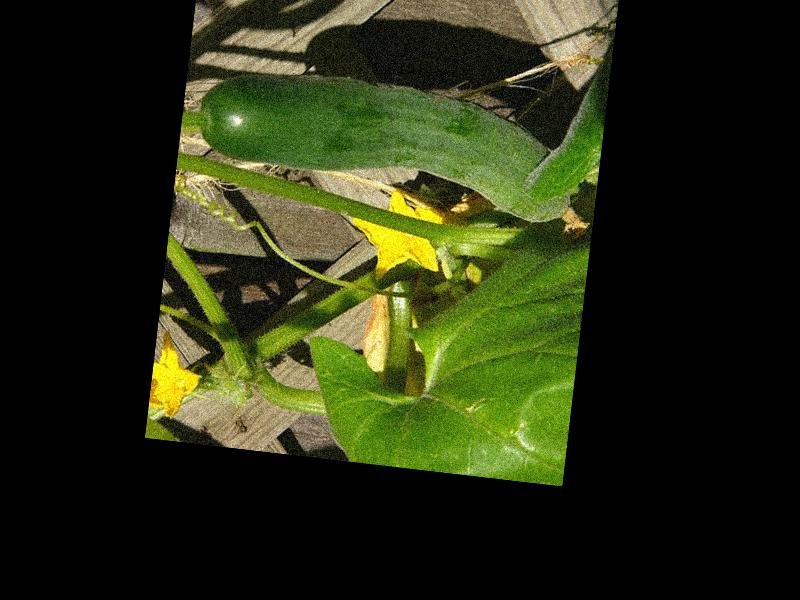Cucumber: (195, 60, 602, 228)
